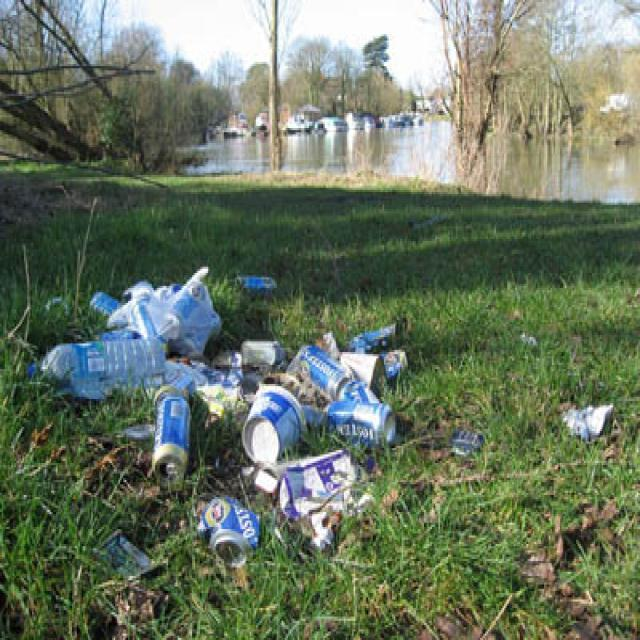plastic: (33, 277, 408, 598), (550, 396, 623, 443), (443, 427, 491, 463)
